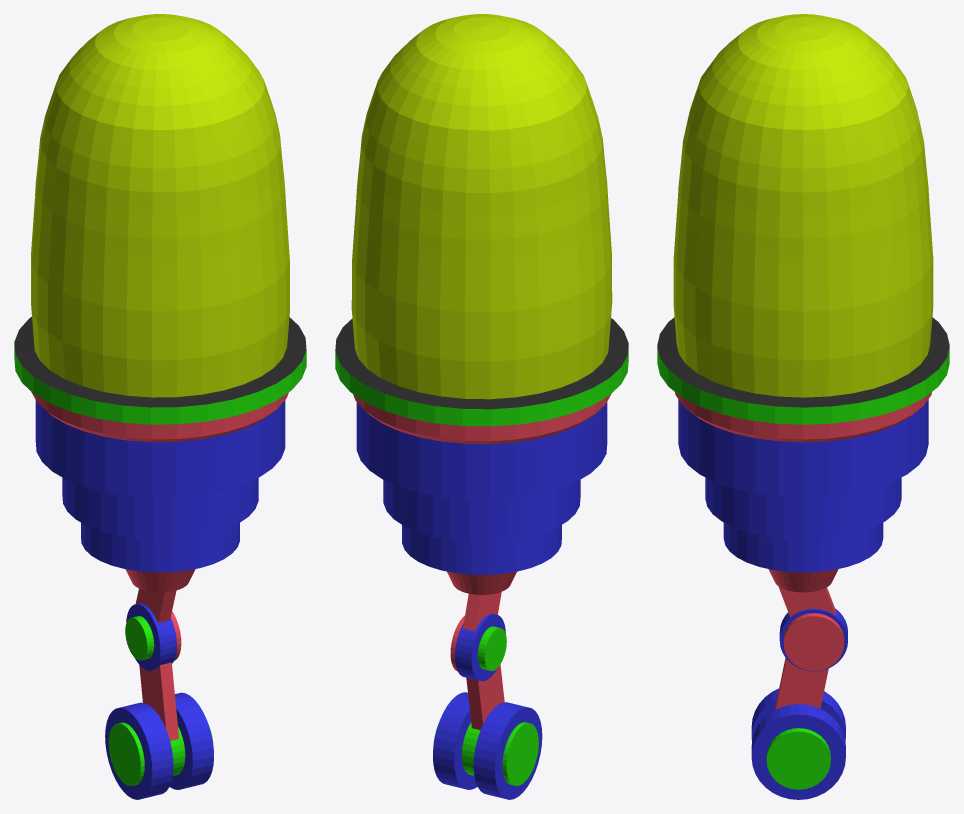
3 views of the same model, side by side, from view 1: azimuth 30°, elevation 25°; view 2: azimuth 150°, elevation 25°; view 3: azimuth 270°, elevation 25° (orthographic).
Parts seen in each view (by area): view 1: Cylinder.018; view 2: Cylinder.018; view 3: Cylinder.018.
Boxes of the visible parts, x1=… form: Cylinder.018: x1=14, y1=14, x2=306, y2=799; Cylinder.018: x1=335, y1=14, x2=628, y2=799; Cylinder.018: x1=657, y1=14, x2=949, y2=799.
Bounding box in the file's own units: 70.81 × 203 × 70.81.
